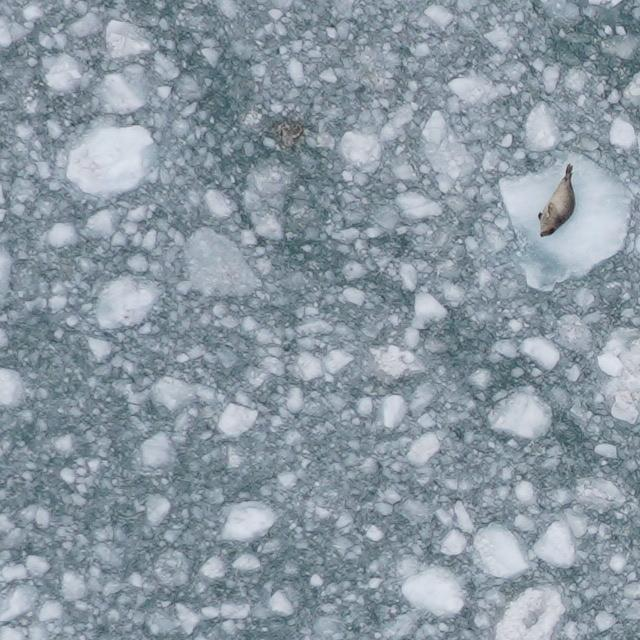seal: (533, 158, 578, 243)
